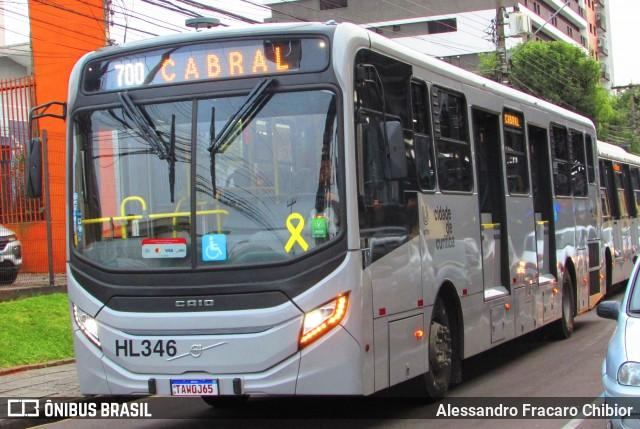CABRAL: (155, 42, 294, 85)
